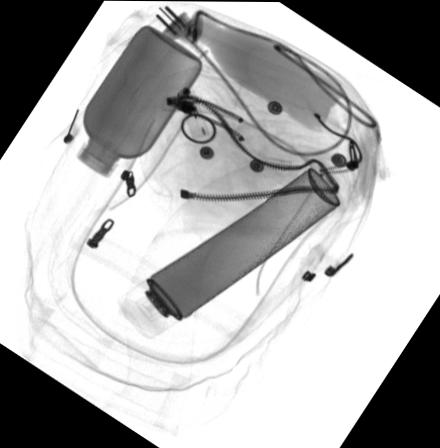Lighter: (175, 87, 209, 138)
Sprayer: (113, 167, 340, 339)
